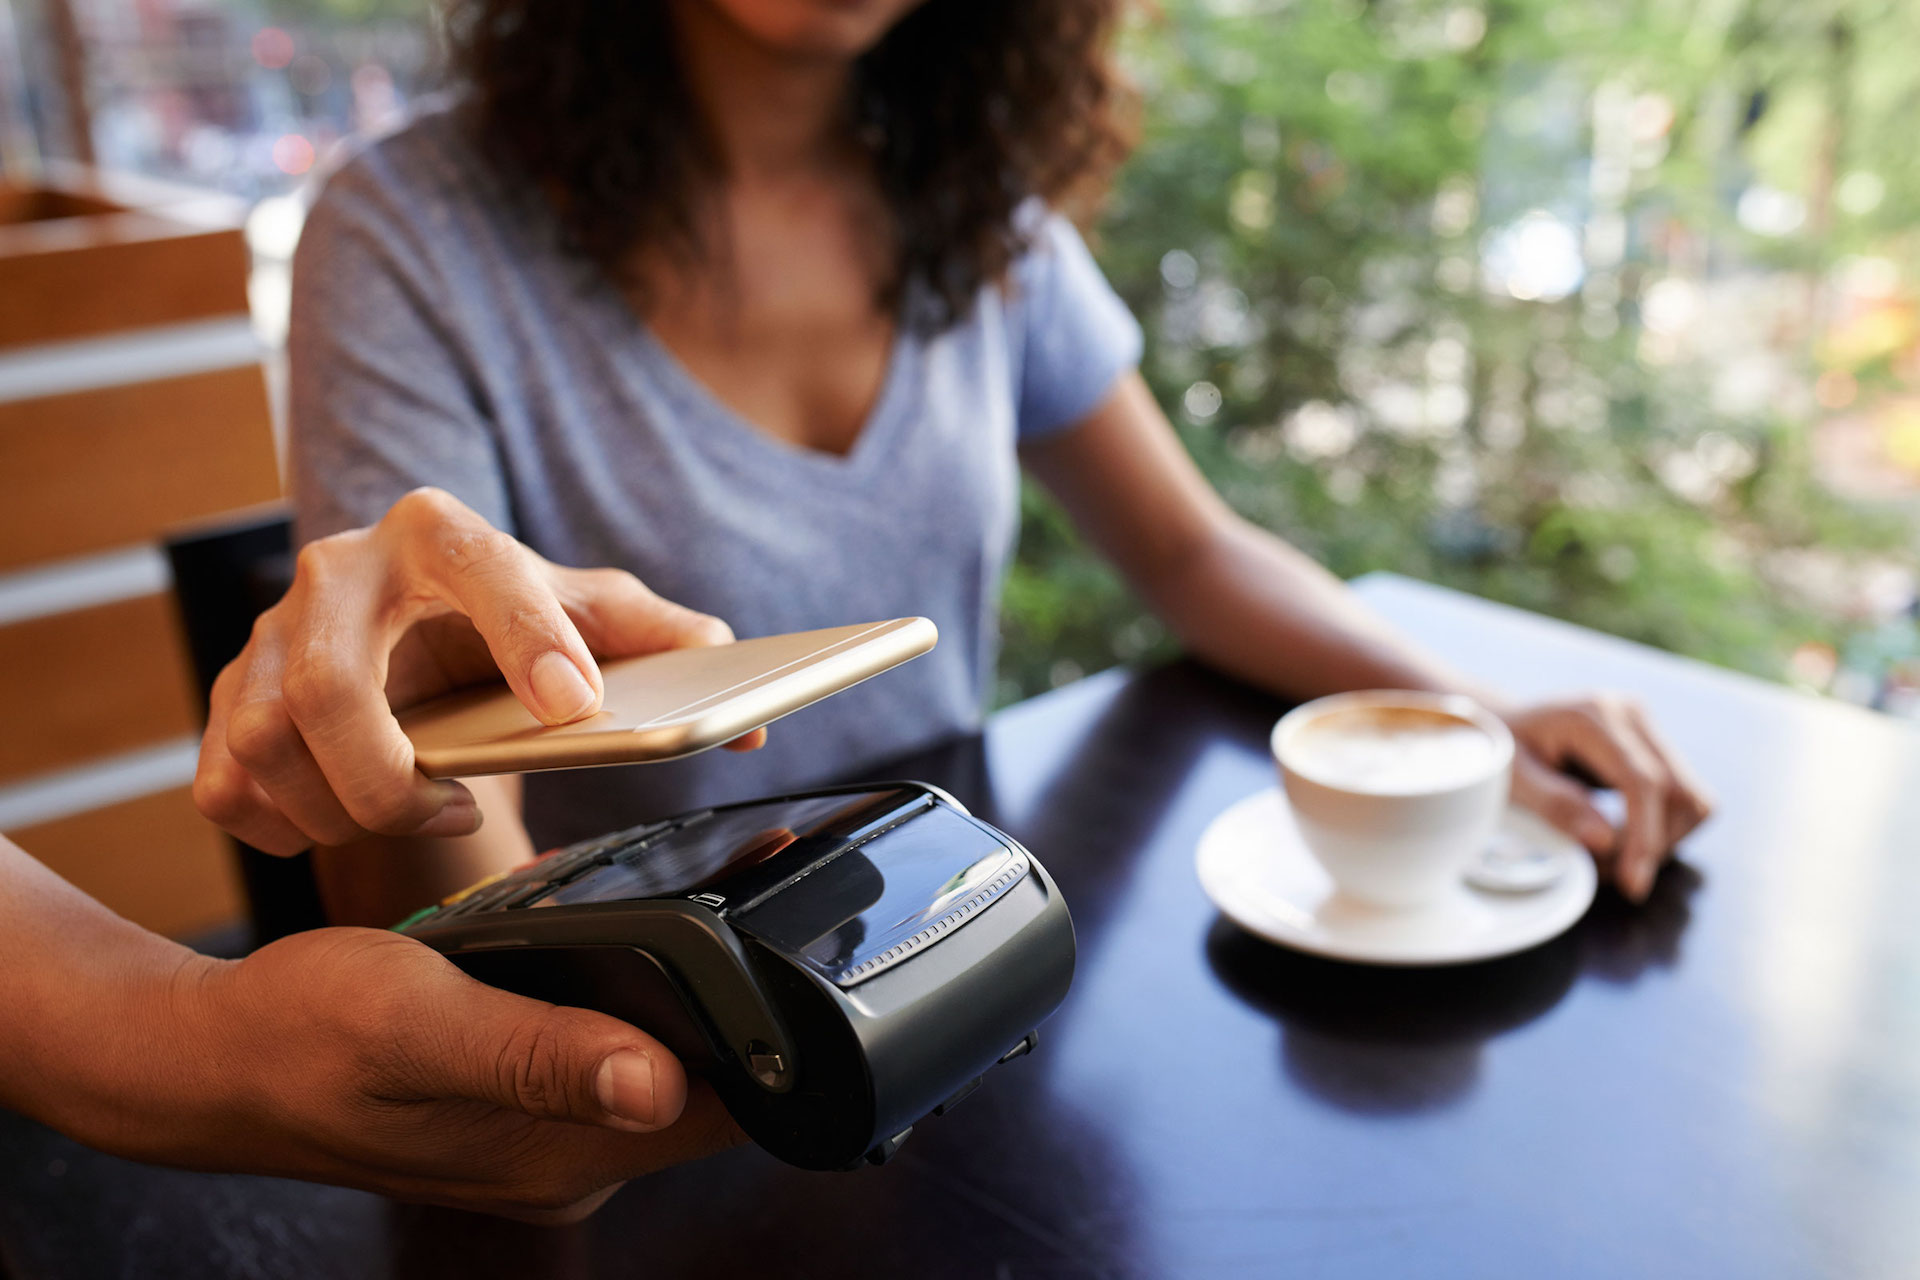smartphone: (384, 614, 941, 781)
